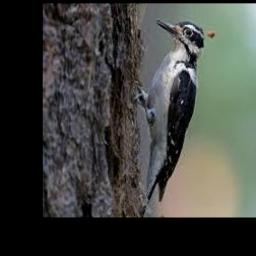Woodpecker: (134, 19, 215, 211)
